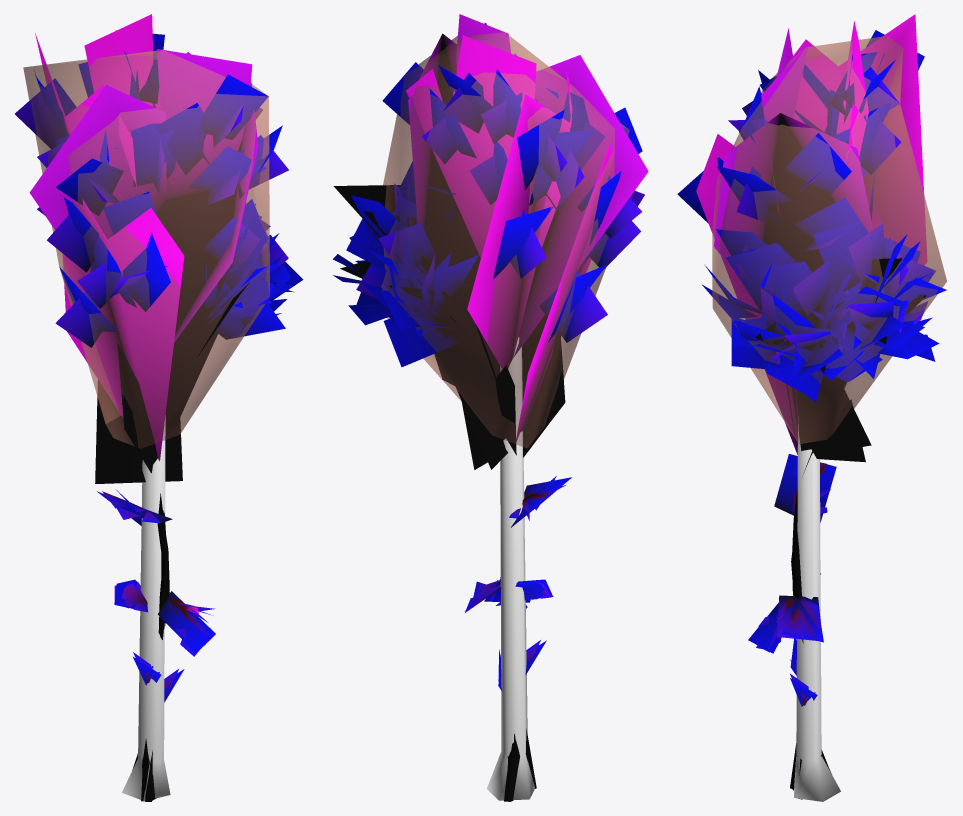
The model's file is tree_beech_forest_a.dae.
3 renders of one model, left to right at view 1: azimuth 30°, elevation 25°; view 2: azimuth 150°, elevation 25°; view 3: azimuth 270°, elevation 25°, orthographic.
Parts seen in each view (by area): view 1: beech_forest_a_a800, Colmesh_forest_a-1, beech_forest_a_a400; view 2: beech_forest_a_a800, Colmesh_forest_a-1, beech_forest_a_a400; view 3: Colmesh_forest_a-1, beech_forest_a_a800, beech_forest_a_a400.
Part boxes in pixels (x1,y1,x2,y2): beech_forest_a_a800: [15, 14, 303, 801]; Colmesh_forest_a-1: [23, 50, 269, 801]; beech_forest_a_a400: [68, 142, 295, 801]; beech_forest_a_a800: [333, 14, 648, 801]; Colmesh_forest_a-1: [381, 32, 632, 800]; beech_forest_a_a400: [333, 37, 571, 788]; Colmesh_forest_a-1: [712, 36, 946, 801]; beech_forest_a_a800: [677, 14, 946, 799]; beech_forest_a_a400: [698, 102, 939, 799].
Bounding box in the file's own units: 7.72 × 6.52 × 20.23.
